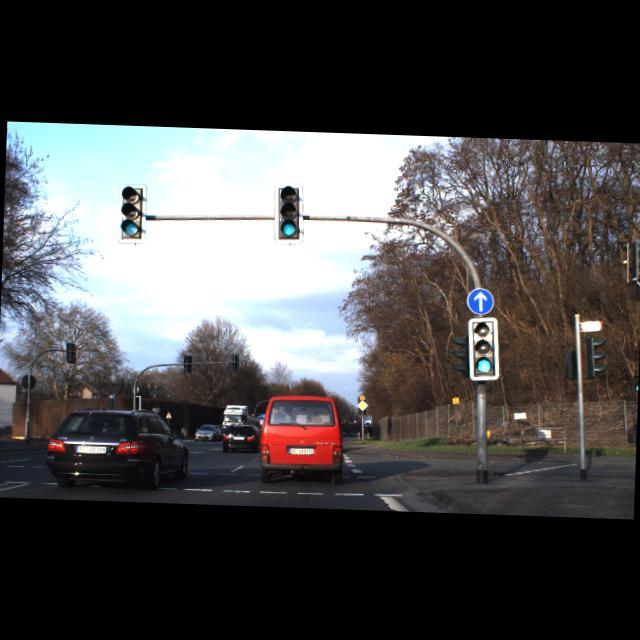mandatory: (465, 286, 493, 314)
other: (357, 400, 368, 411)
